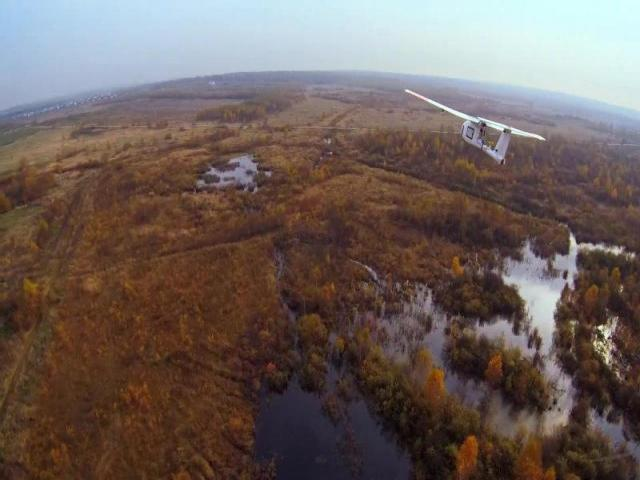hedef: (398, 77, 553, 179)
